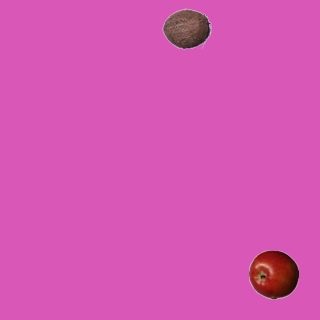Apple Braeburn: (248, 249, 298, 299)
Cocos: (161, 3, 211, 53)
